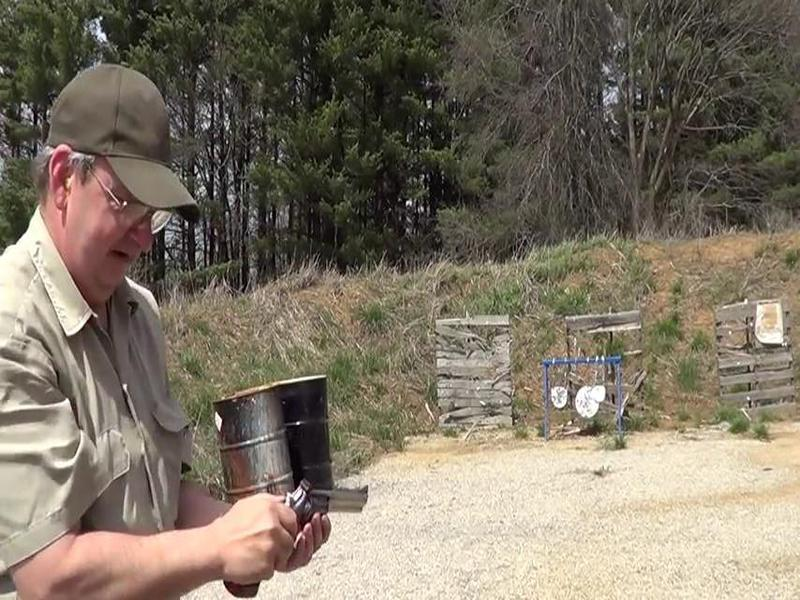Revolver: (267, 457, 387, 565)
